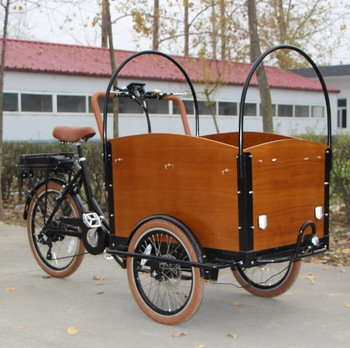handle bar: (86, 81, 195, 116)
seat: (51, 123, 99, 145)
wheel: (122, 218, 208, 326), (218, 220, 307, 302), (22, 179, 91, 284)
